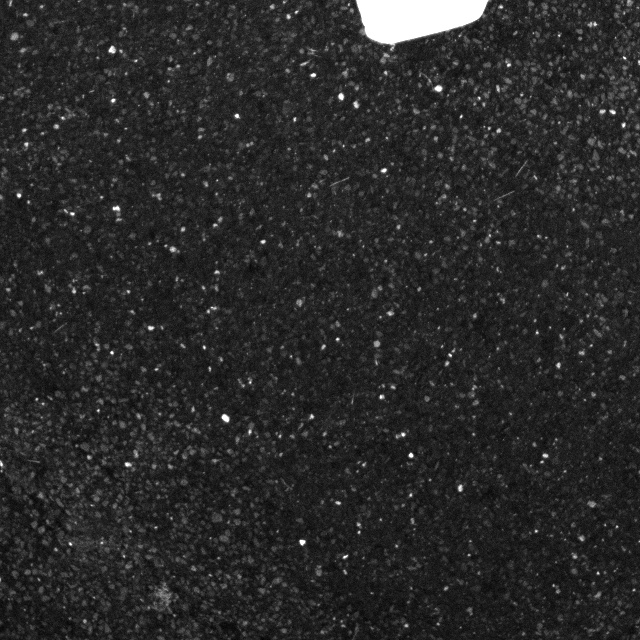can: (334, 0, 528, 57)
